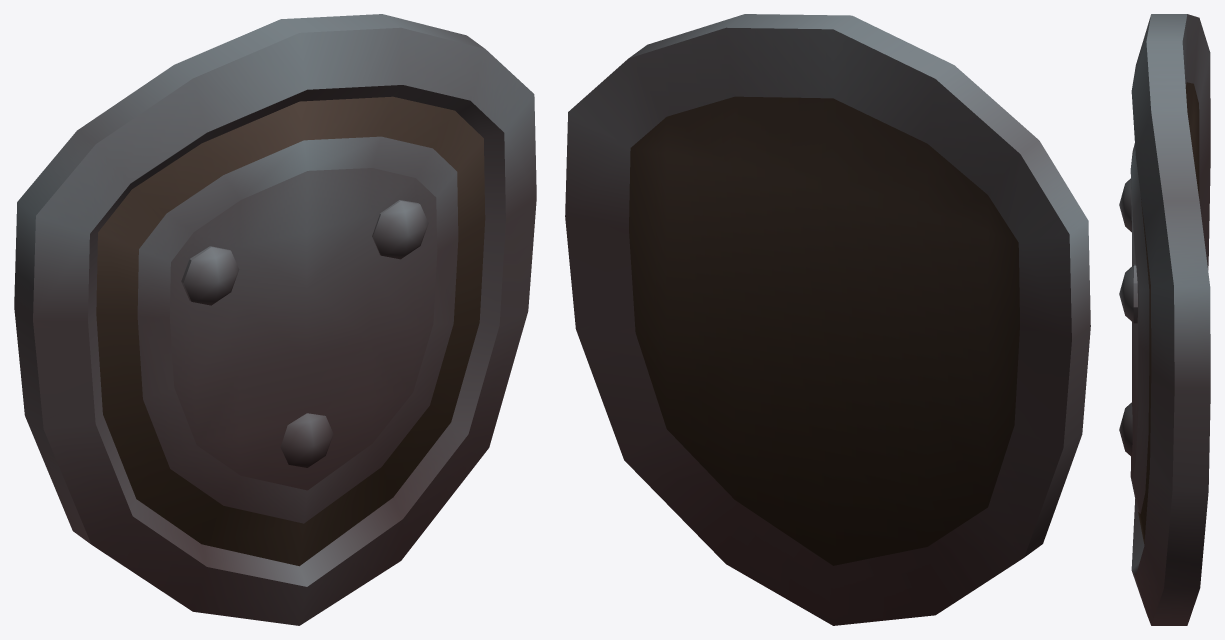
The model's file is Equip_Shield_04_1.FBX.
3 renders of one model, left to right at view 1: azimuth 30°, elevation 25°; view 2: azimuth 150°, elevation 25°; view 3: azimuth 270°, elevation 25°, orthographic. The views are drawn at different scales.
Parts seen in each view (by area): view 1: Equip_Shield_04_1; view 2: Equip_Shield_04_1; view 3: Equip_Shield_04_1.
Boxes of the visible parts, bbox=[...] form: Equip_Shield_04_1: bbox=[14, 14, 536, 625]; Equip_Shield_04_1: bbox=[565, 14, 1090, 625]; Equip_Shield_04_1: bbox=[1119, 14, 1210, 625].
Bounding box in the file's own units: 46.52 × 52.33 × 7.6.
